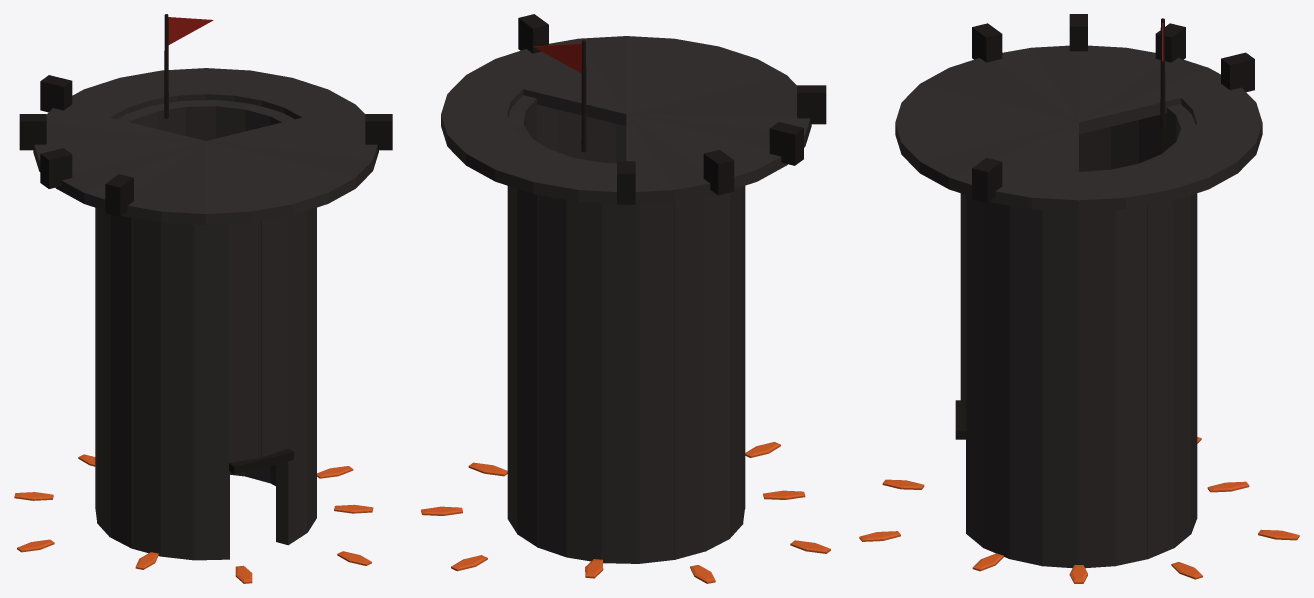
File: tower_ash_hollow.glb
3 renders of one model, left to right at view 1: azimuth 30°, elevation 25°; view 2: azimuth 150°, elevation 25°; view 3: azimuth 270°, elevation 25°, orthographic. The views are drawn at different scales.
Visible parts, largest first — view 1: tower_ash_hollow; view 2: tower_ash_hollow; view 3: tower_ash_hollow.
Part boxes in pixels (left/top/right/bottom): tower_ash_hollow: left=14, top=14, right=392, bottom=583; tower_ash_hollow: left=421, top=14, right=830, bottom=583; tower_ash_hollow: left=859, top=14, right=1299, bottom=583.
Bounding box in the file's own units: 15.78 × 21 × 16.78.
